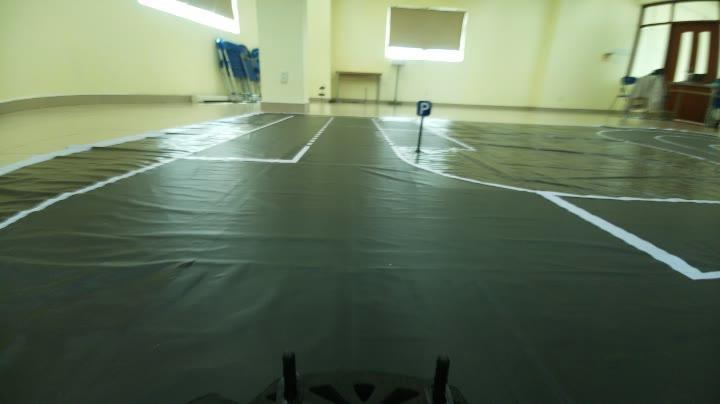parking: (410, 97, 439, 121)
